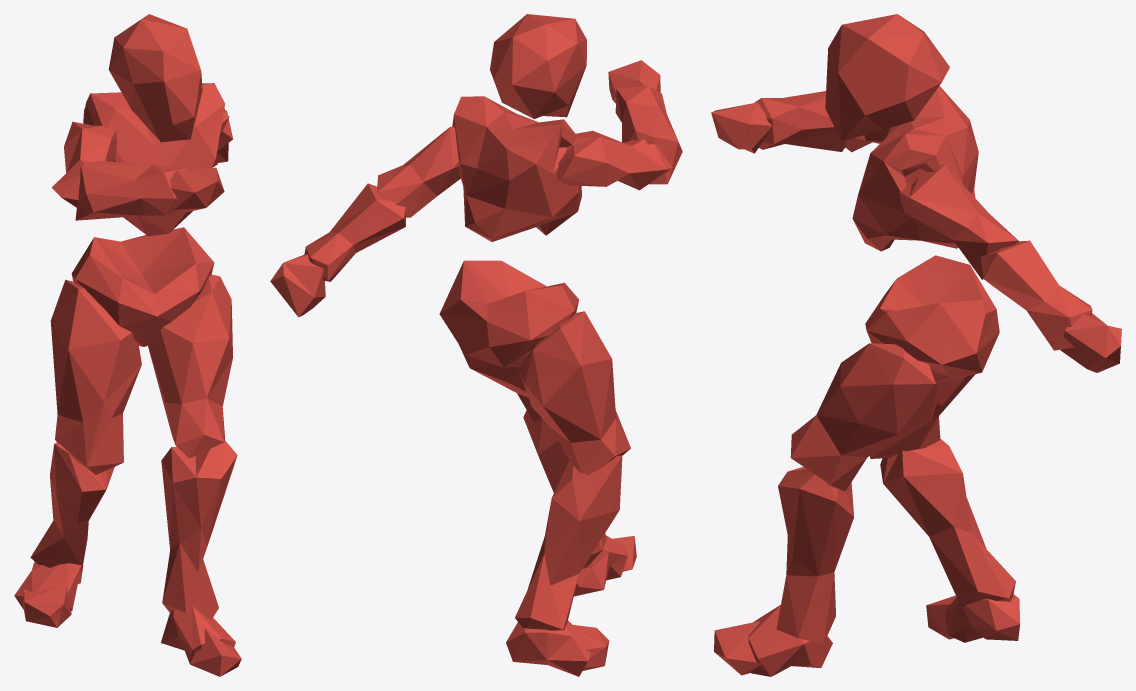
The model's file is 2dancer0176.obj.
3 views of the same model, side by side, from view 1: azimuth 30°, elevation 25°; view 2: azimuth 150°, elevation 25°; view 3: azimuth 270°, elevation 25° (orthographic). The views are drawn at different scales.
Parts seen in each view (by area): view 1: Beta_Surface; view 2: Beta_Surface; view 3: Beta_Surface.
Part boxes in pixels (x1,y1,x2,y2): Beta_Surface: (14, 14, 241, 676); Beta_Surface: (270, 14, 682, 676); Beta_Surface: (711, 14, 1121, 676).
Bounding box in the file's own units: 0.8634 × 1.76 × 1.
